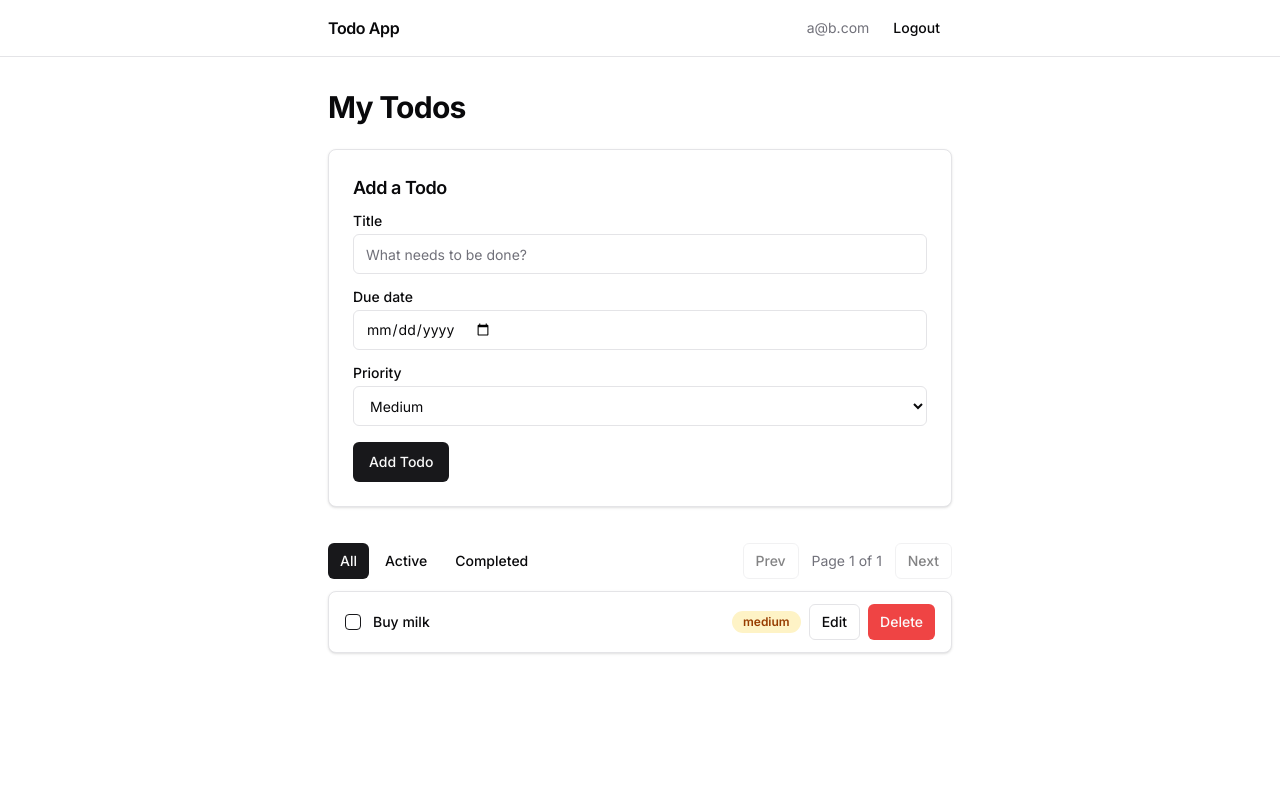
Test case: TodosPage › shows edit form when edit button is clicked
This screenshot has width=1280, height=800.
Expected: the text "Buy milk" is shown, [373,613,430,630]
Click the button "Edit" at x=834, y=622, box [809,604,860,640]
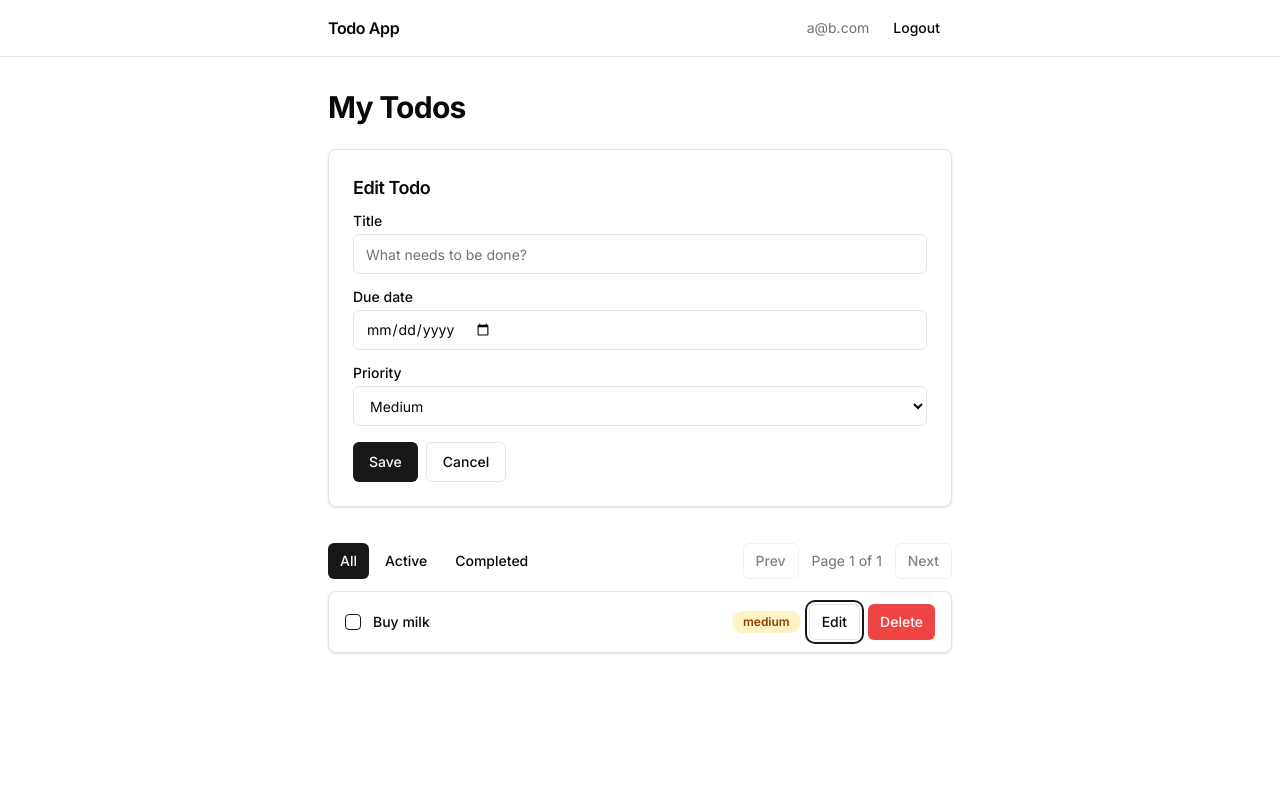
Now the heading "Edit Todo" is shown, box [353,177,430,198]
